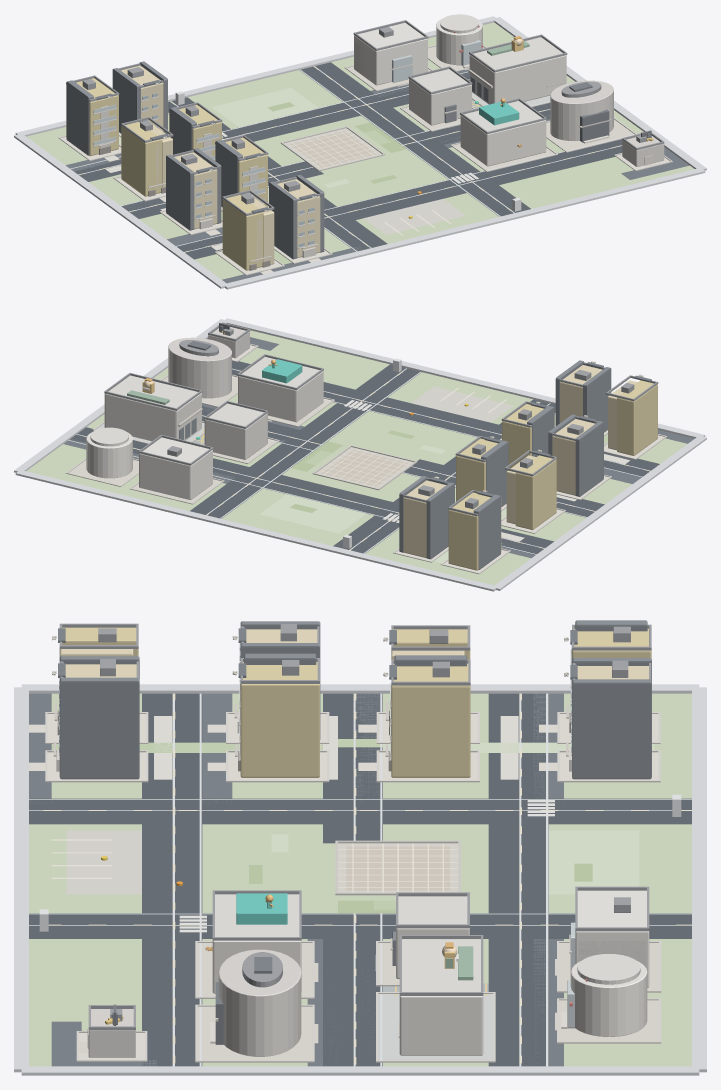
Rendered from campus.glb.
The picture shows the model from 3 angles, top to bottom: view 1: azimuth 30°, elevation 25°; view 2: azimuth 150°, elevation 25°; view 3: azimuth 270°, elevation 25°; orthographic projection. The views are drawn at different scales.
Visible parts, largest first — view 1: ground_base, road_horizontal_south, road_vertical_east, hub_express_main, building_sports_center, road_horizontal_north, border_north, building_resident_service, building_residential_7, building_residential_3, building_property_center, building_comprehensive (+37 smaller); view 2: ground_base, road_vertical_east, hub_express_main, road_horizontal_south, road_horizontal_north, building_resident_service, building_sports_center, border_south, building_comprehensive, building_property_center, building_residential_3, building_residential_7 (+31 smaller); view 3: ground_base, road_horizontal_north, road_horizontal_south, road_vertical_west, road_vertical_east, hub_express_main, building_residential_6, building_residential_4, building_residential_8_frame_right, road_horizontal_mid_east, building_residential_2_frame_right, building_comprehensive (+48 smaller).
Boxes of the visible parts, <box> form: ground_base: <box>26,22,694,279</box>; road_horizontal_south: <box>177,139,622,259</box>; road_vertical_east: <box>299,62,530,216</box>; hub_express_main: <box>469,37,566,104</box>; building_sports_center: <box>460,101,546,166</box>; road_horizontal_north: <box>74,72,469,181</box>; border_north: <box>223,167,705,289</box>; building_resident_service: <box>354,22,427,85</box>; building_residential_7: <box>222,195,263,270</box>; building_residential_3: <box>121,122,162,196</box>; building_property_center: <box>409,69,471,125</box>; building_comprehensive: <box>550,80,613,140</box>; ground_base: <box>26,330,687,585</box>; road_vertical_east: <box>190,364,421,518</box>; hub_express_main: <box>104,375,201,441</box>; road_horizontal_south: <box>232,361,659,477</box>; road_horizontal_north: <box>70,427,553,554</box>; building_resident_service: <box>139,437,212,499</box>; building_sports_center: <box>238,356,323,422</box>; border_south: <box>15,470,497,591</box>; building_comprehensive: <box>168,337,231,398</box>; building_property_center: <box>204,403,267,459</box>; building_residential_3: <box>515,455,556,529</box>; building_residential_7: <box>617,380,657,455</box>; ground_base: <box>29,693,691,1066</box>; road_horizontal_north: <box>488,693,548,1066</box>; road_horizontal_south: <box>142,693,202,1066</box>; road_vertical_west: <box>29,798,691,824</box>; road_vertical_east: <box>29,913,691,938</box>; hub_express_main: <box>399,939,483,1055</box>; building_residential_6: <box>240,662,319,777</box>; building_residential_4: <box>391,663,470,777</box>; building_residential_8_frame_right: <box>59,677,139,779</box>; road_horizontal_mid_east: <box>323,913,382,1066</box>; building_residential_2_frame_right: <box>572,679,651,779</box>; building_comprehensive: <box>218,949,301,1056</box>.
Size of the model in its own units: 50.02 by 6.25 by 37.72.
